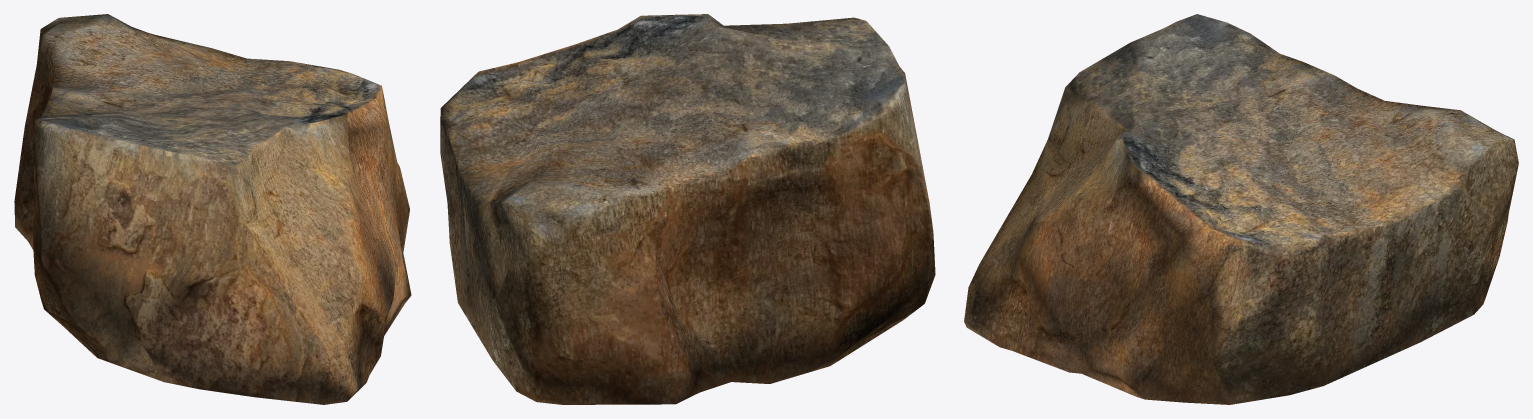
Rendered from desert_boulder_blocky_lod1.glb.
3 renders of one model, left to right at view 1: azimuth 30°, elevation 25°; view 2: azimuth 150°, elevation 25°; view 3: azimuth 270°, elevation 25°, orthographic. The views are drawn at different scales.
Parts seen in each view (by area): view 1: boulder_03_LOD0; view 2: boulder_03_LOD0; view 3: boulder_03_LOD0.
Boxes of the visible parts, box(x1,y1,x2,y2) form: boulder_03_LOD0: box(14, 14, 411, 404); boulder_03_LOD0: box(440, 14, 935, 404); boulder_03_LOD0: box(964, 14, 1518, 404).
Size of the model in its own units: 2.38 by 1.47 by 3.06.
1 material, 1 textured.
